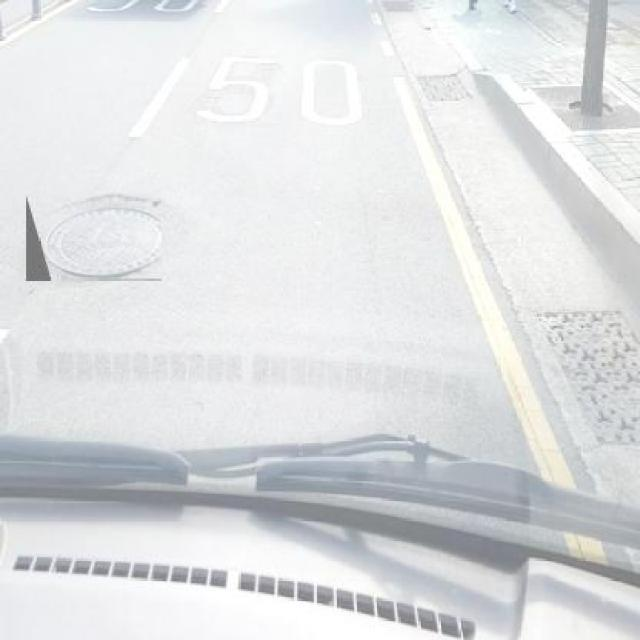Manhole: (531, 295, 640, 457), (26, 194, 162, 280), (401, 65, 479, 114)
